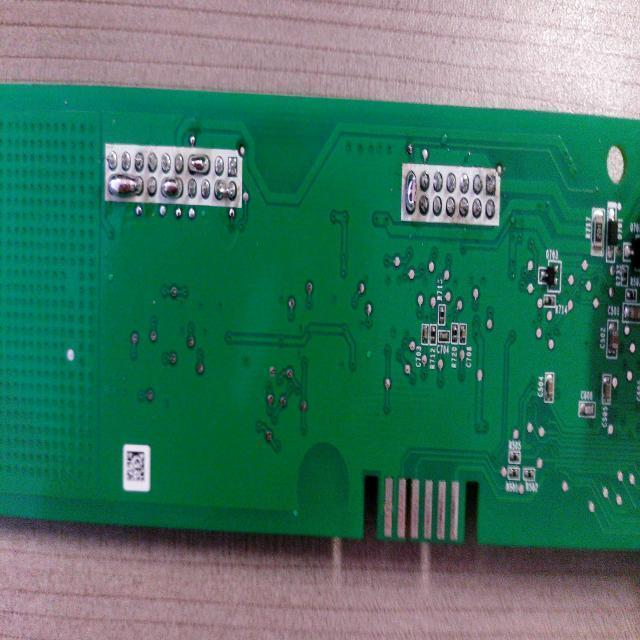Soldering shorted: (108, 174, 144, 198), (403, 170, 419, 213), (161, 176, 183, 201), (188, 151, 210, 175), (214, 178, 237, 198)
